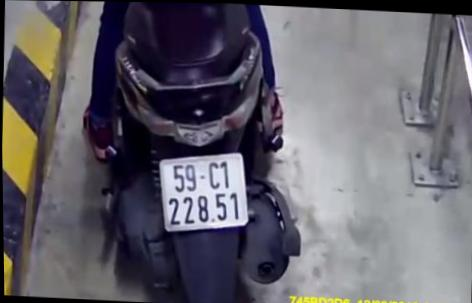LP: (154, 147, 253, 236)
